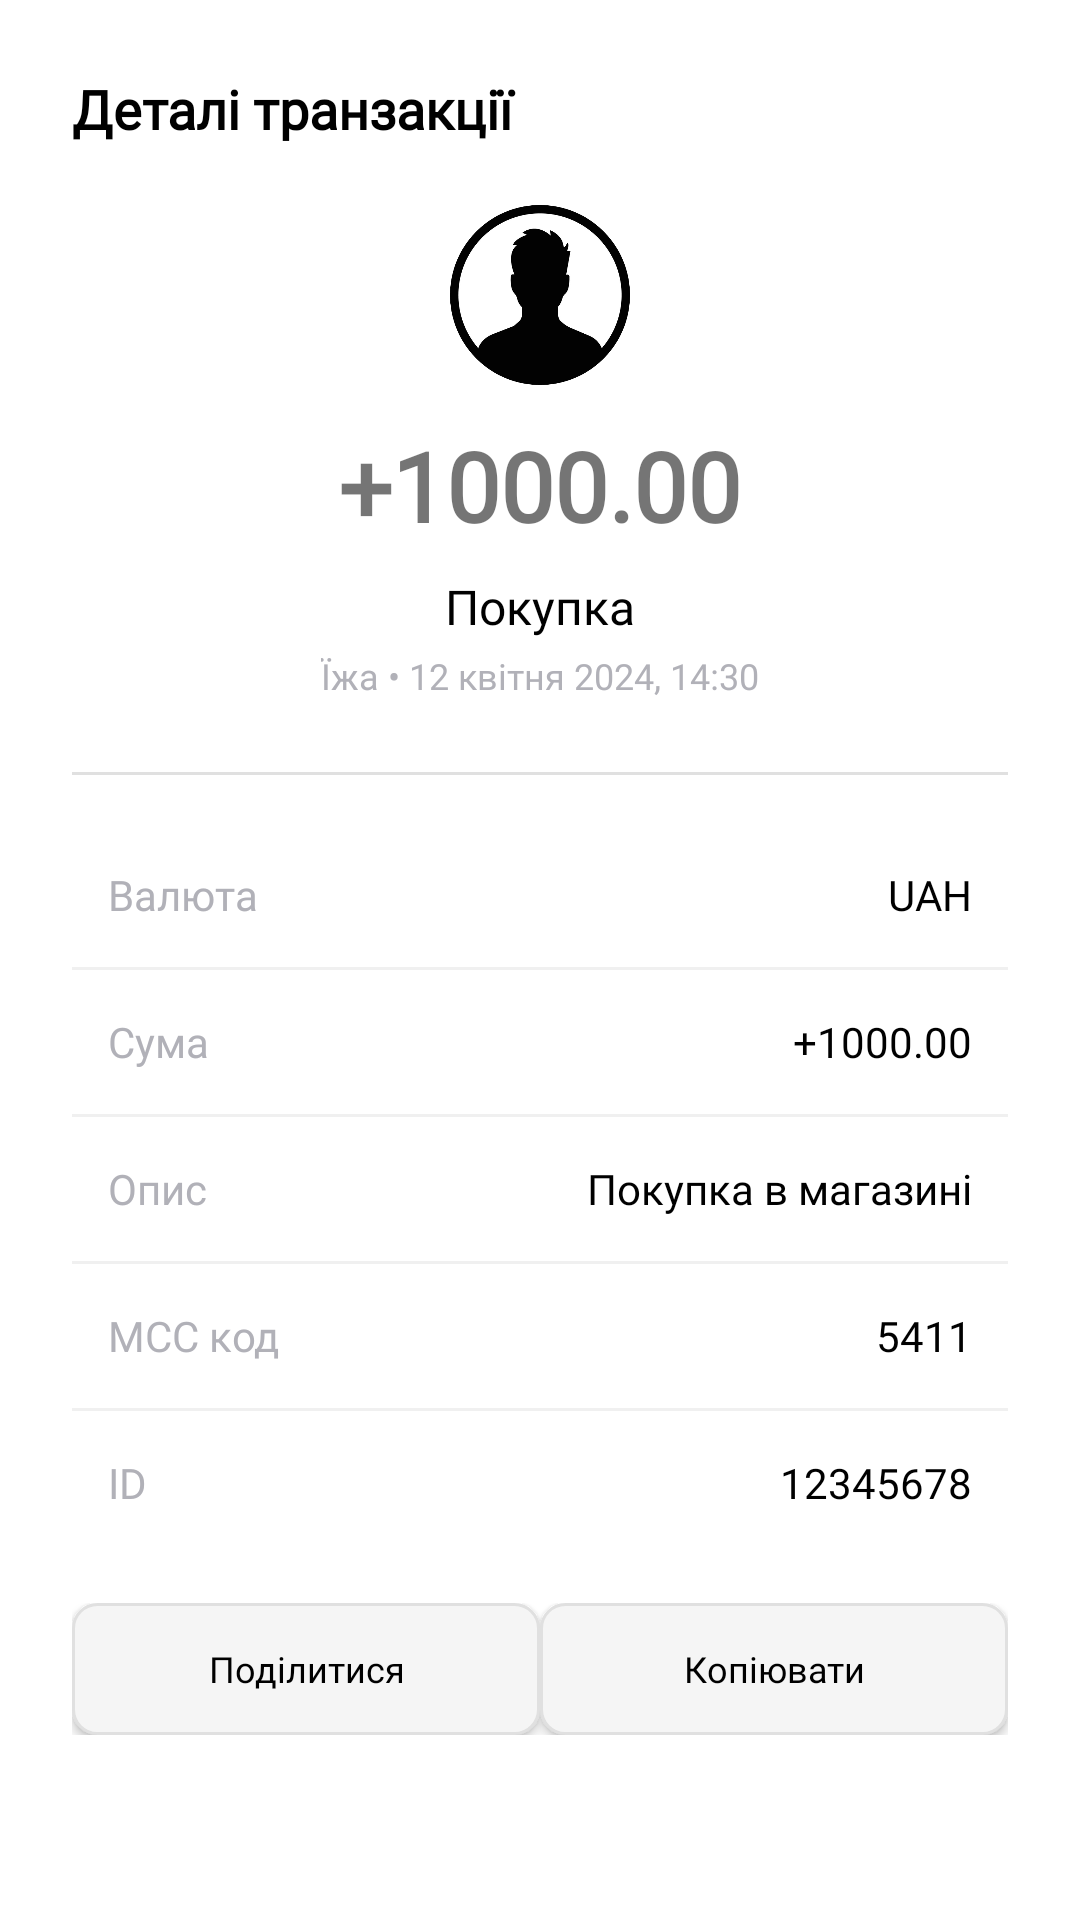

Screen size 1080 x 1920. Icon name, then its box in pixels as (x1, y1, x2, y2):
account: (450, 205, 630, 385)
